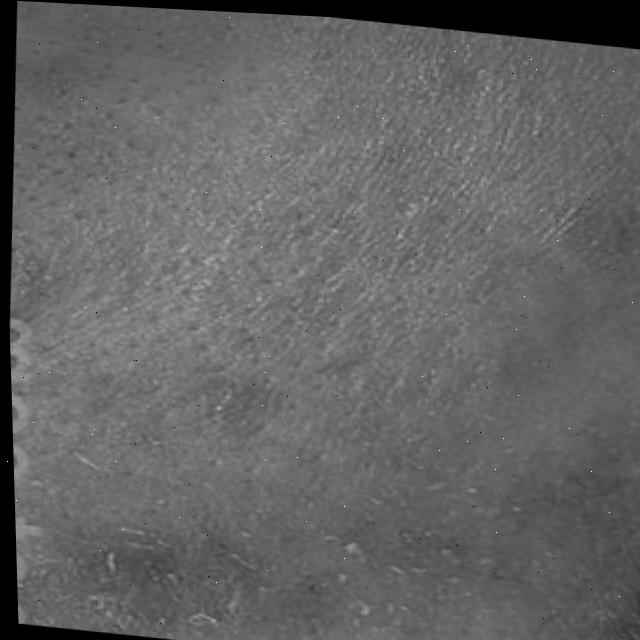Rosacea: (72, 490, 520, 640)
